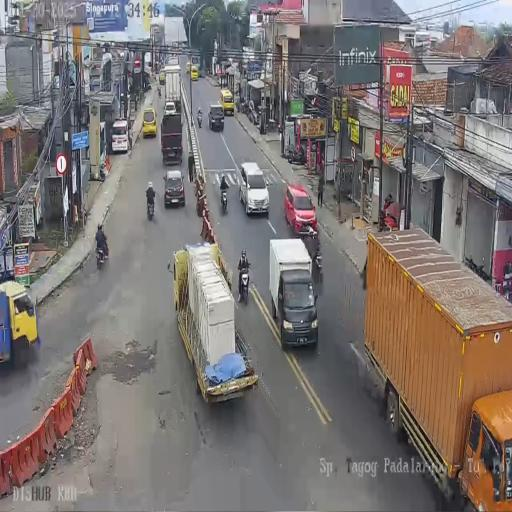3: (361, 229, 511, 506), (171, 240, 256, 404), (269, 236, 315, 344), (0, 282, 39, 370), (160, 107, 182, 162)
car: (283, 182, 316, 236), (239, 161, 270, 217), (164, 169, 186, 210), (111, 118, 130, 154), (142, 108, 157, 138), (208, 103, 224, 130), (220, 88, 234, 115), (163, 100, 177, 116), (168, 54, 179, 67), (190, 65, 198, 80), (159, 71, 165, 84), (197, 68, 203, 78), (186, 62, 190, 74)
truck: (238, 264, 250, 305), (286, 144, 306, 166), (95, 239, 106, 269), (219, 182, 229, 214), (146, 195, 155, 219), (240, 98, 250, 116), (197, 113, 202, 128), (277, 121, 282, 135)
